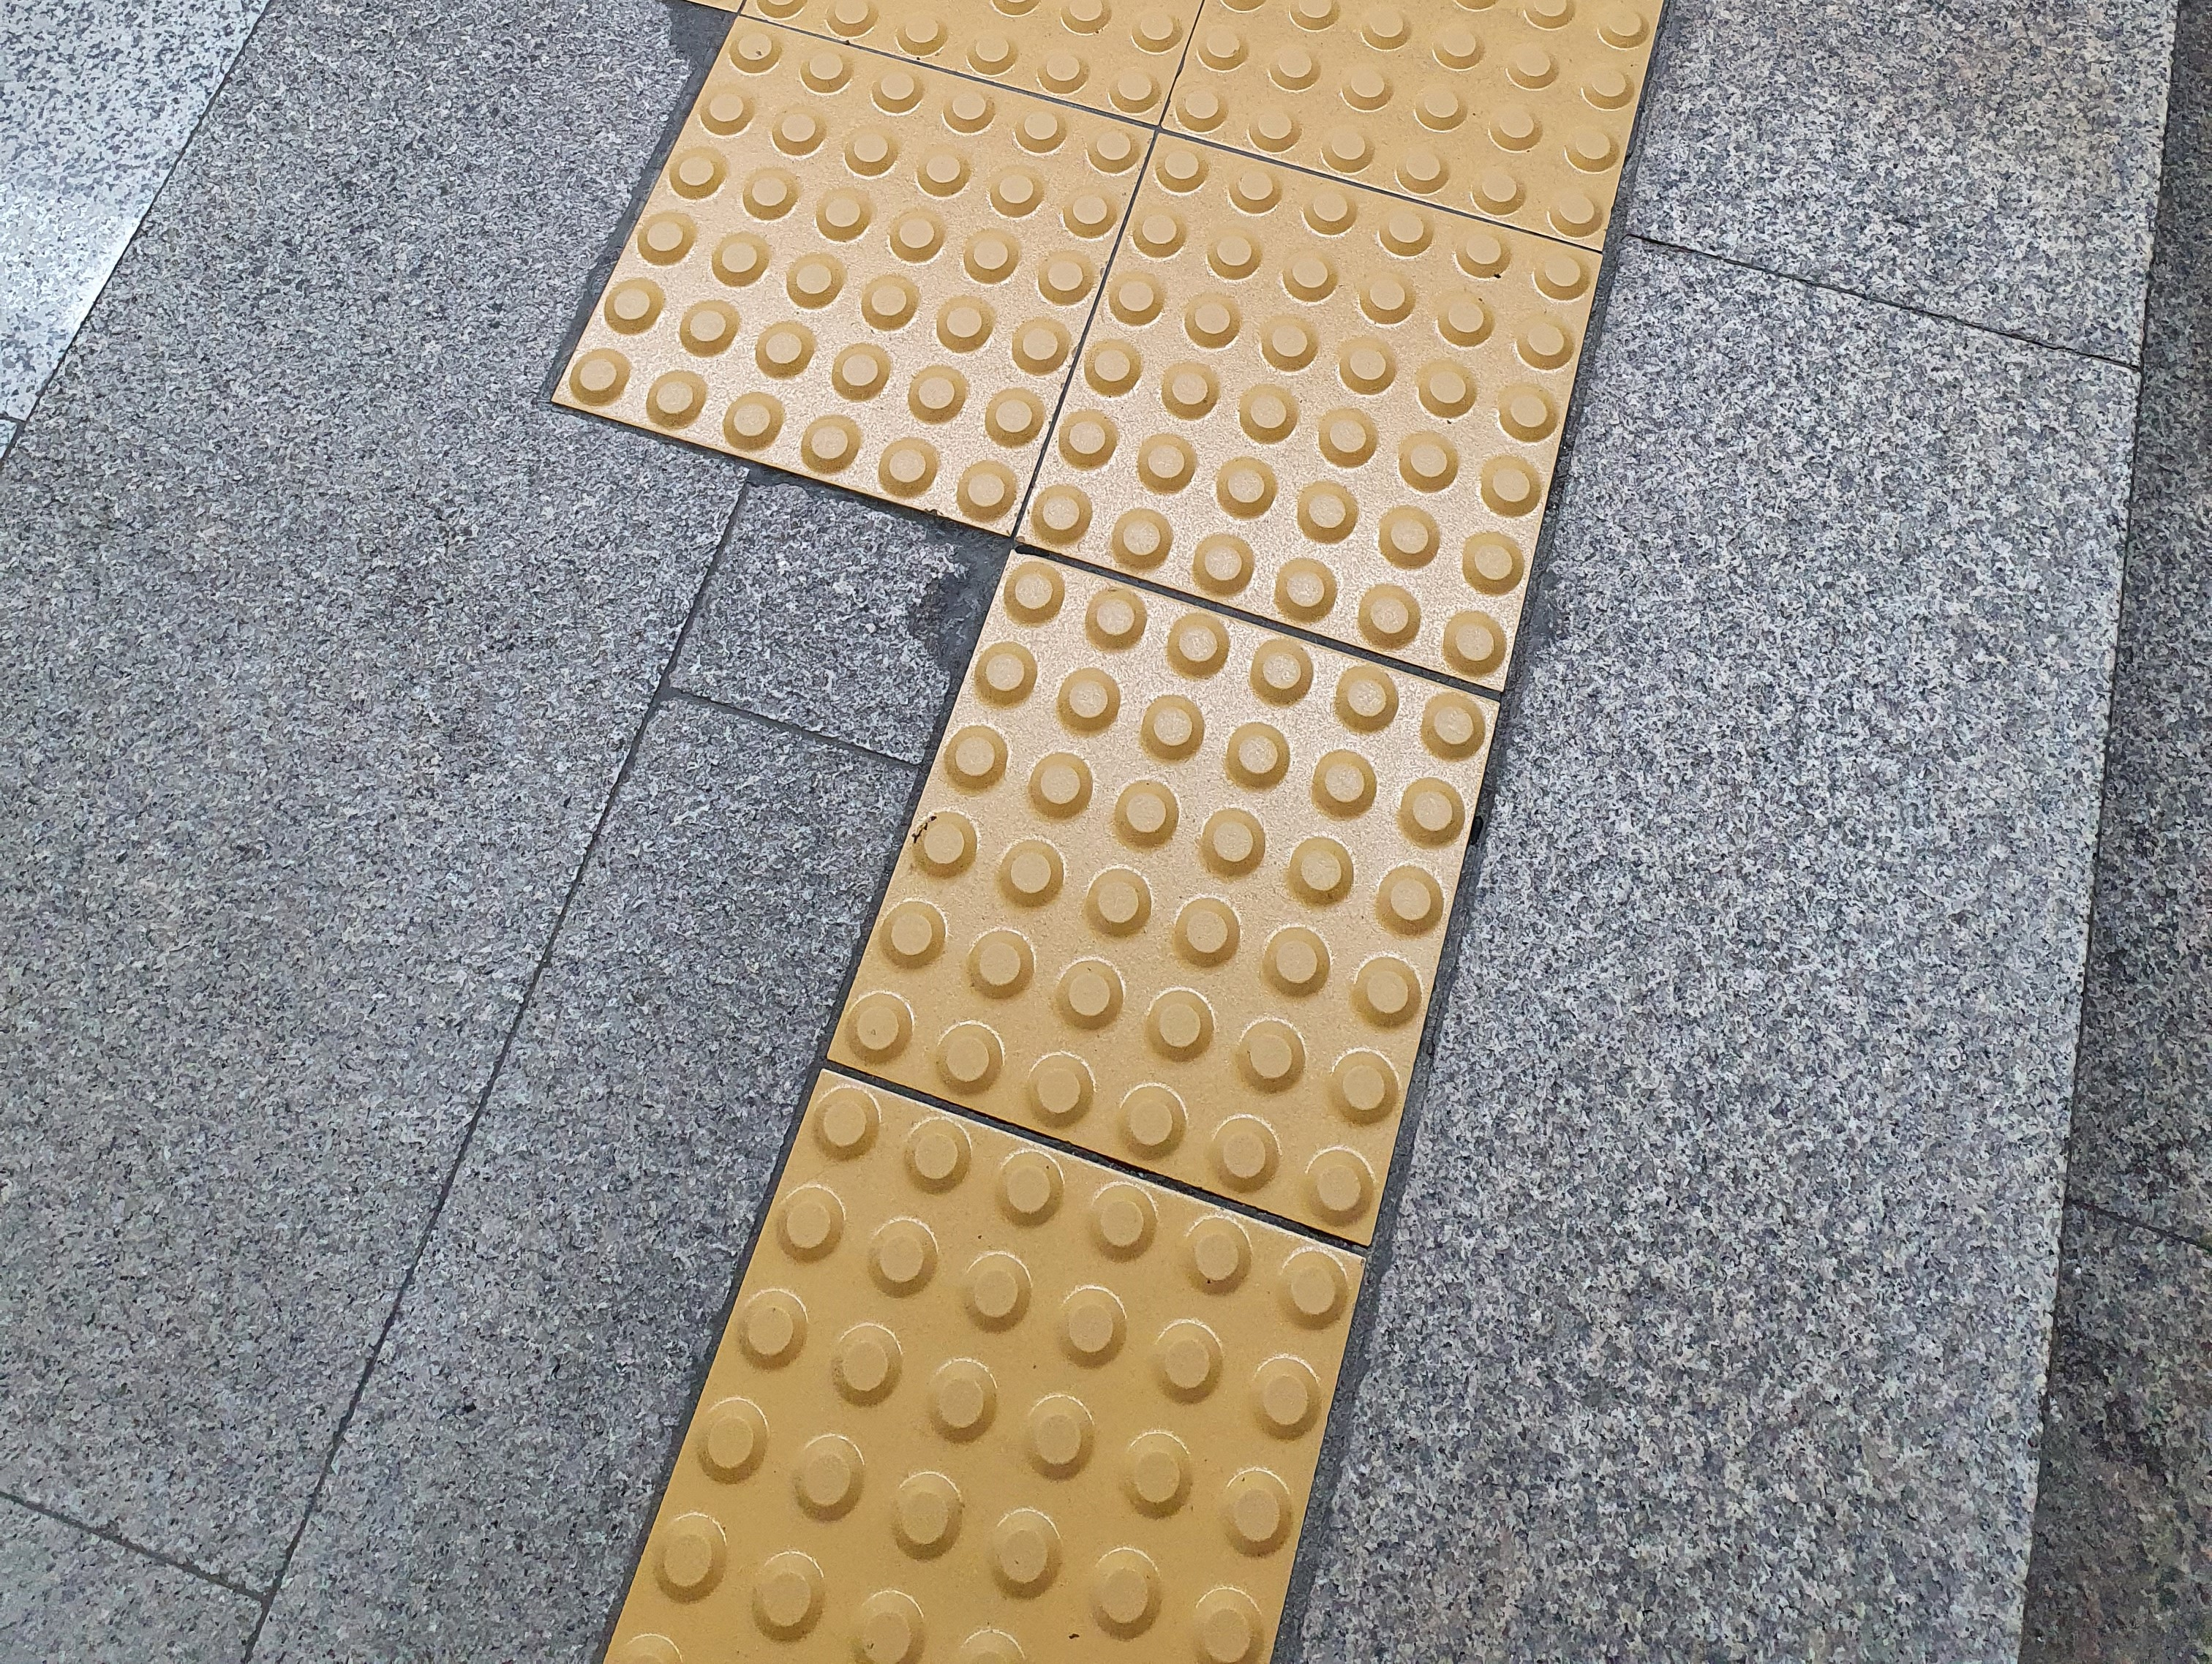warningBlock: (673, 1092, 1268, 1664), (935, 542, 1382, 1208), (1109, 84, 1550, 580), (669, 40, 1080, 467)
